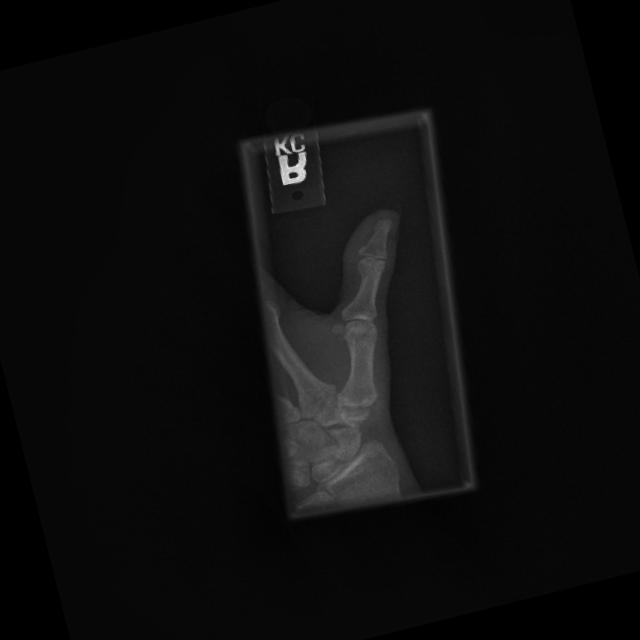fingers positive: (354, 236, 392, 261)
